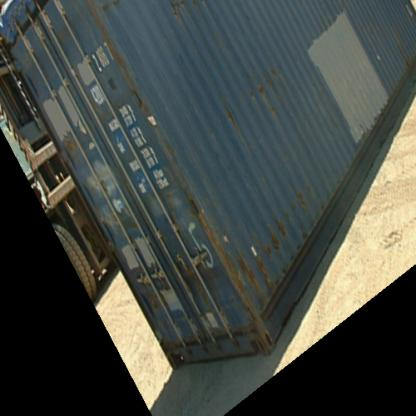Damage: (225, 219, 294, 304), (247, 62, 285, 108), (221, 100, 240, 137)
